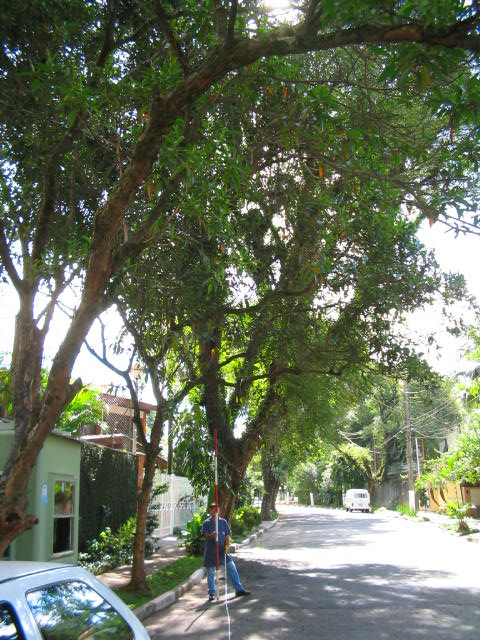crown: (80, 173, 463, 399)
stem: (122, 444, 165, 594), (253, 461, 285, 524)
stick: (207, 427, 225, 601)
tree: (72, 169, 467, 601)
